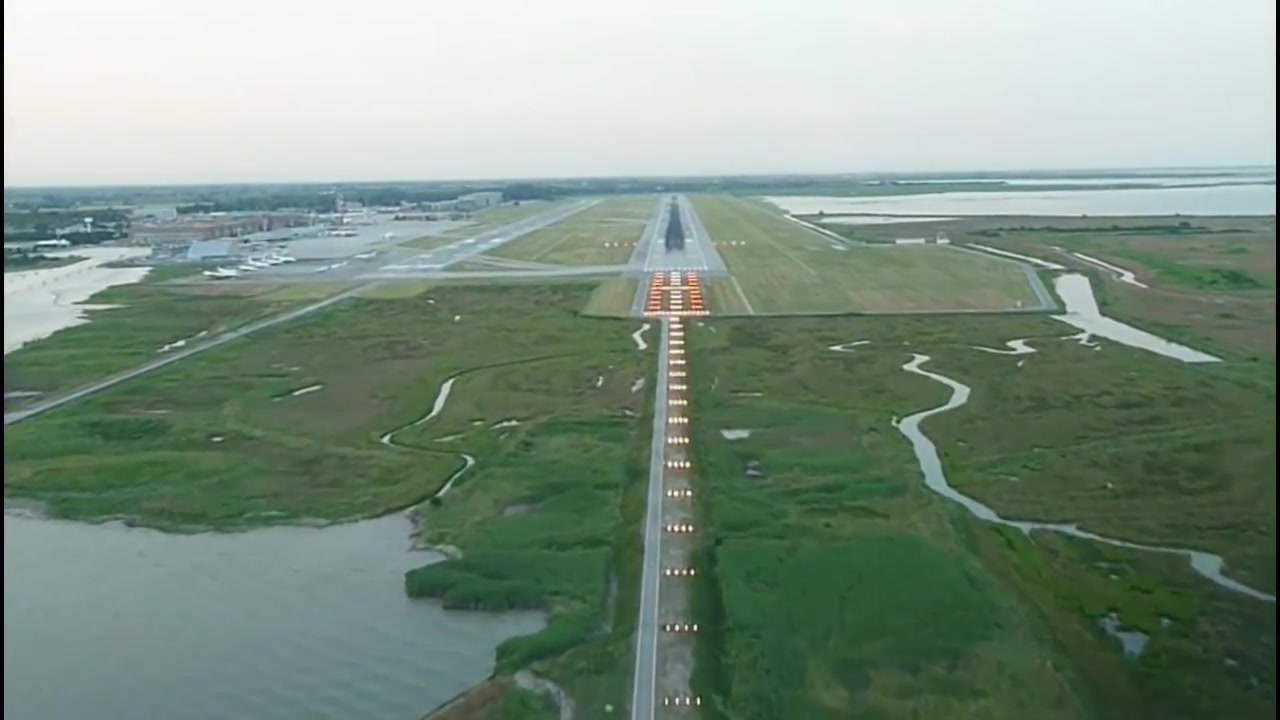entrance: (646, 266, 706, 272)
runway: (377, 198, 611, 269), (644, 187, 707, 275)
